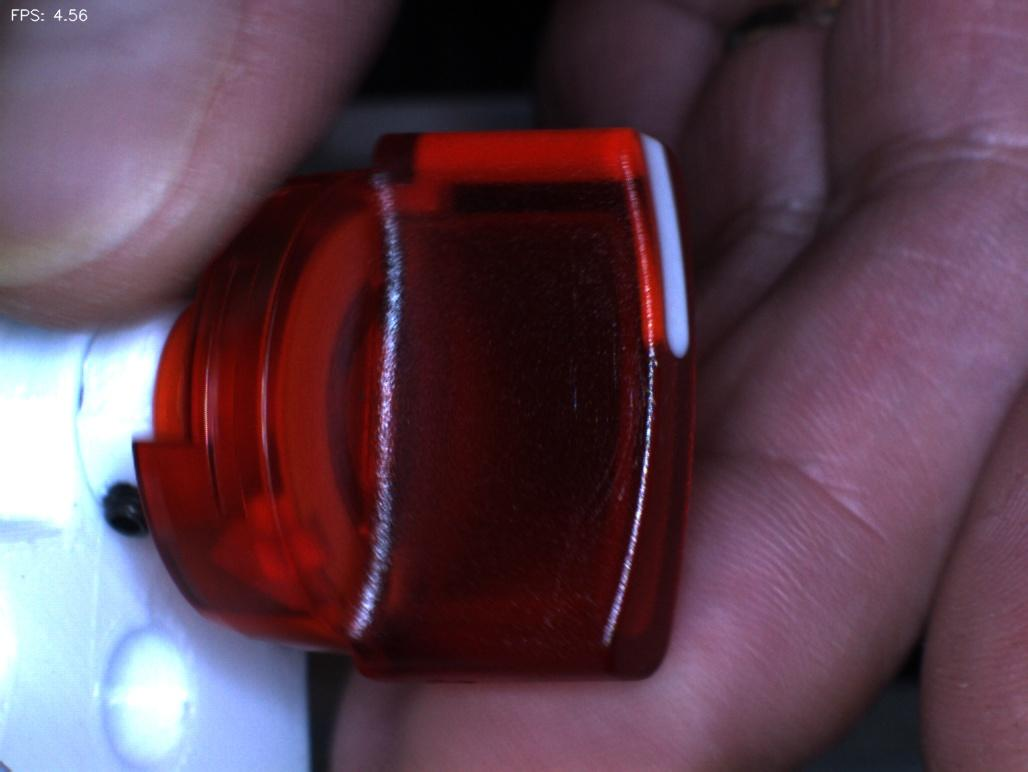Givrage: (555, 291, 658, 516)
